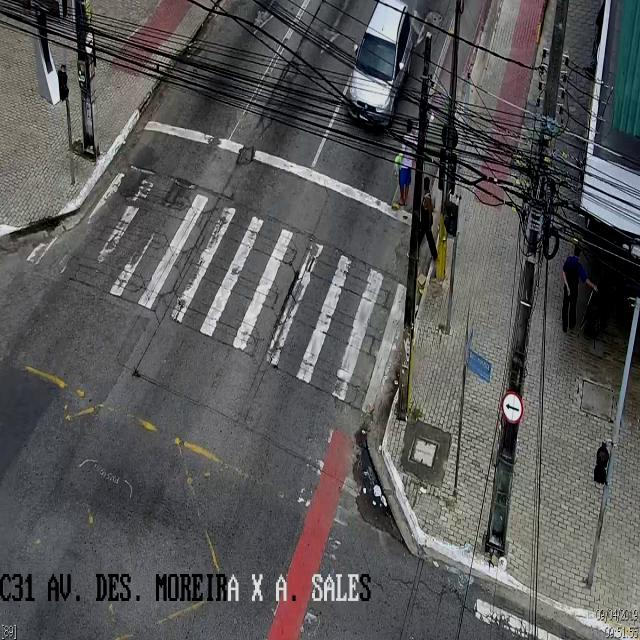Car: (348, 5, 414, 127)
